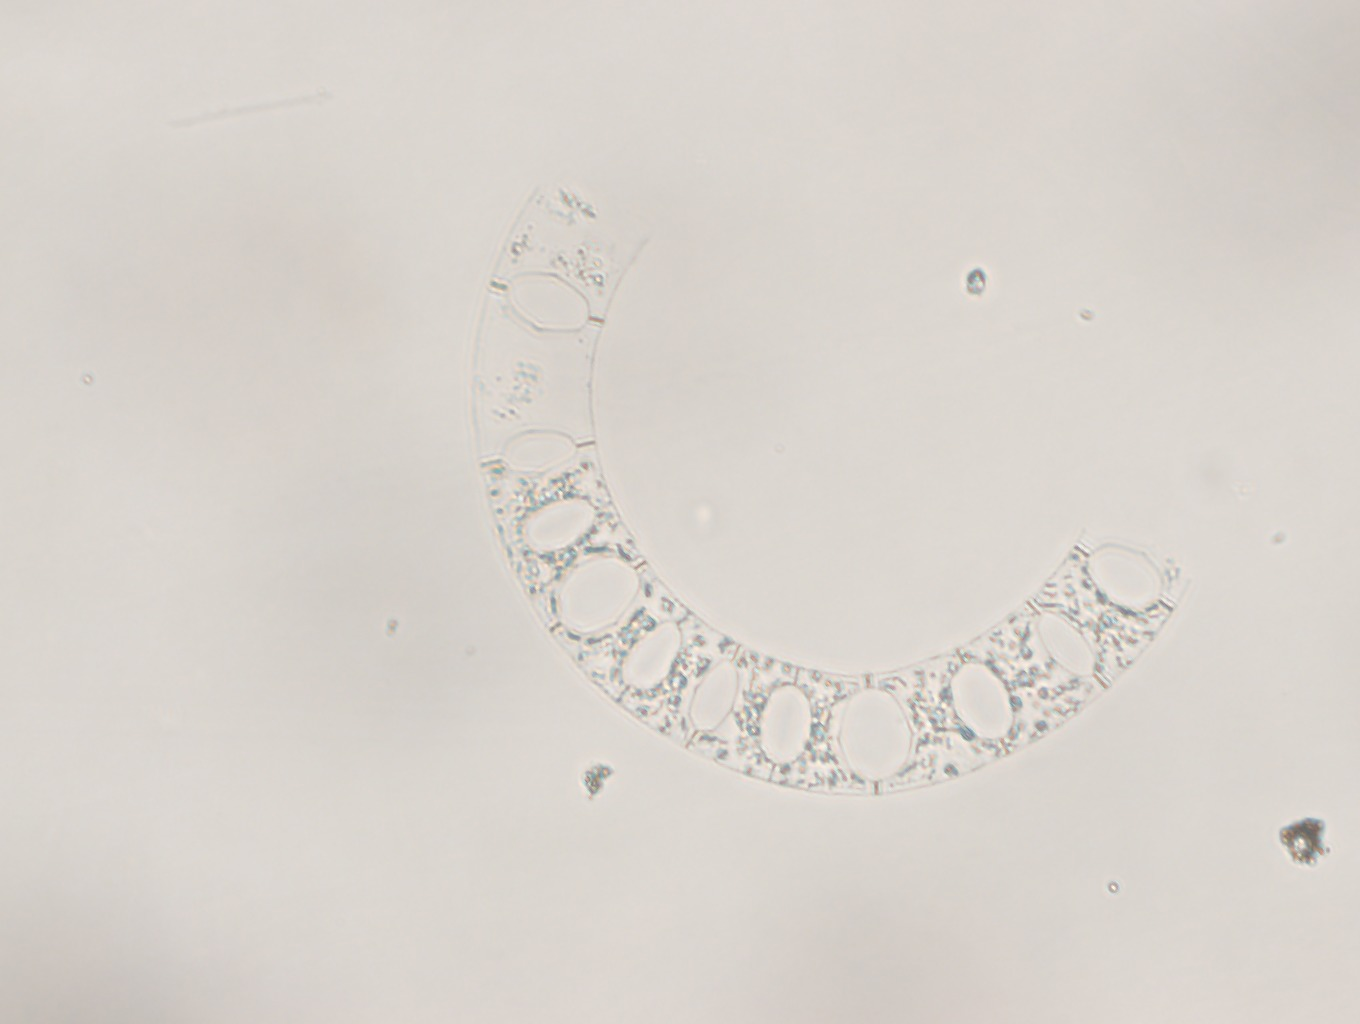eucampia: (464, 146, 1202, 812)
